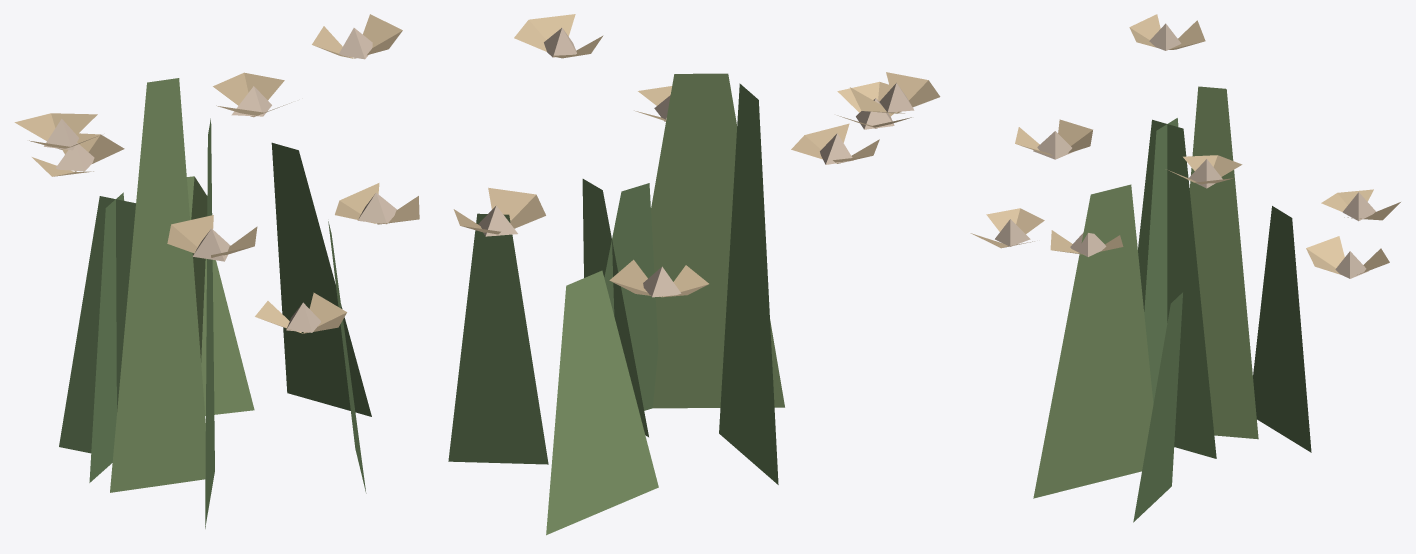
Rendered from cao.yangmao@flowering__summer.glb.
The picture shows the model from 3 angles, left to right: view 1: azimuth 30°, elevation 25°; view 2: azimuth 150°, elevation 25°; view 3: azimuth 270°, elevation 25°; orthographic projection. The views are drawn at different scales.
Visible parts, largest first — view 1: cao.yangmao@flowering__summer; view 2: cao.yangmao@flowering__summer; view 3: cao.yangmao@flowering__summer.
Boxes of the visible parts, box(x1,y1,x2,y2) form: cao.yangmao@flowering__summer: box(14, 14, 419, 528); cao.yangmao@flowering__summer: box(448, 14, 940, 535); cao.yangmao@flowering__summer: box(970, 14, 1400, 522).
Bounding box in the file's own units: 0.6035 × 0.5808 × 0.6335.
